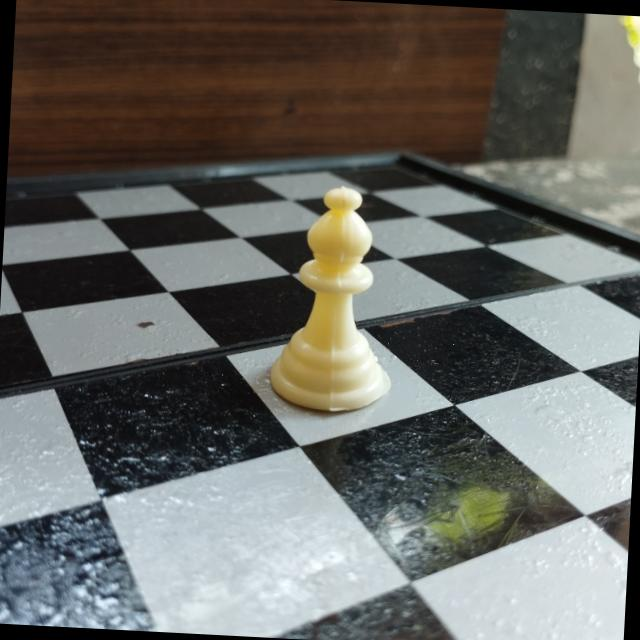White Bishop: (262, 177, 410, 420)
